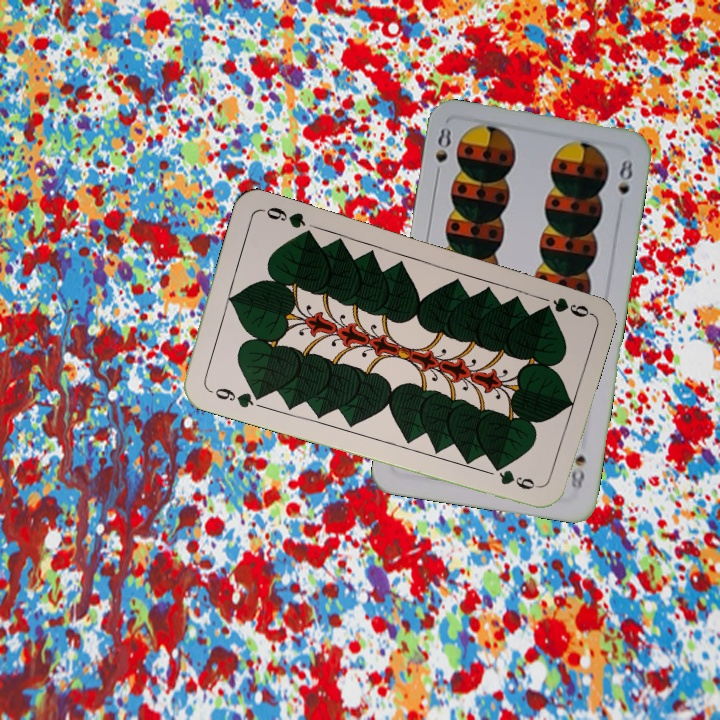G9: (204, 383, 265, 411), (534, 292, 592, 320)
S8: (431, 123, 454, 182), (566, 451, 589, 497)
